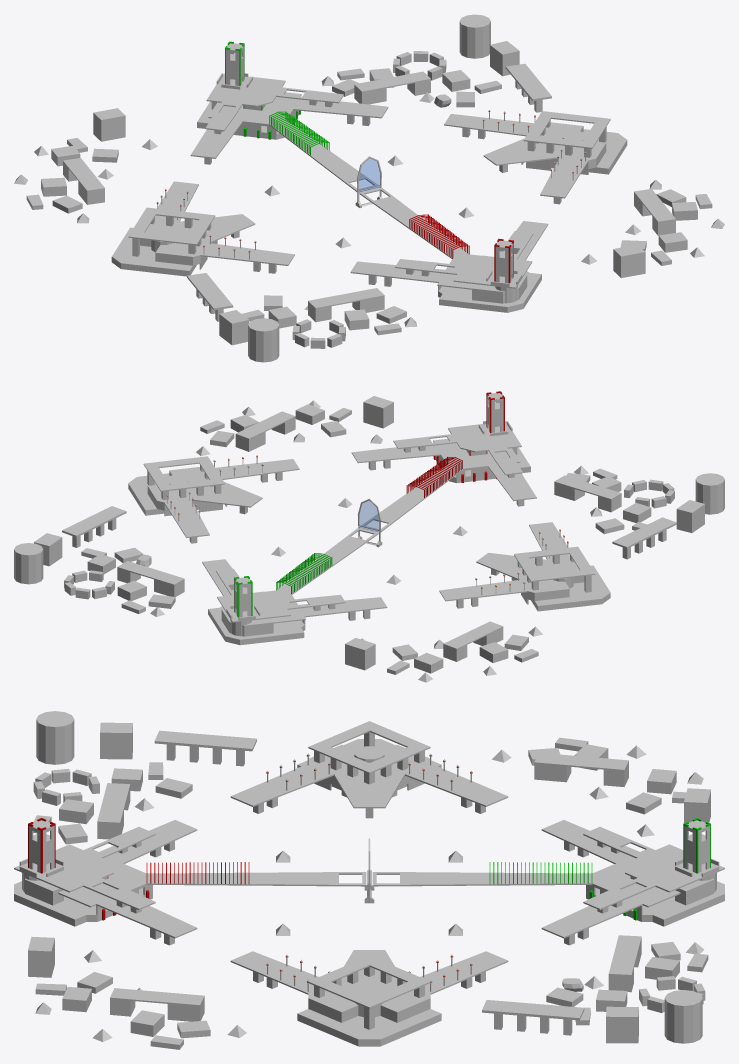
The model's file is version-2.obj.
3 views of the same model, one above another, from view 1: azimuth 30°, elevation 25°; view 2: azimuth 150°, elevation 25°; view 3: azimuth 270°, elevation 25° (orthographic). The views are drawn at different scales.
Parts seen in each view (by area): view 1: catwalk_lower.001_Cube.008, side_fortress_upper_Cube.020, side_fortress_higher_Cube.023, catwalk_guard_Cube.017, catwalk_lower_Cube.036, side_fortress_middlewalk_Cube.033, catwalk_central.001_Cube.044, floor_high_Cube.007, catwalk_central_Cube.010, catwalk_lower.002_Cube.043, side_fortress_base_(ground).001_Cube.030, base_(ground).001_Cube.038 (+22 smaller); view 2: catwalk_lower.001_Cube.008, side_fortress_upper_Cube.020, side_fortress_higher_Cube.023, catwalk_guard_Cube.017, catwalk_lower.002_Cube.043, side_fortress_middlewalk_Cube.033, catwalk_central_Cube.010, catwalk_central.001_Cube.044, floor_high.001_Cube.041, catwalk_lower_Cube.036, side_fortress_base_(ground).001_Cube.030, base_(ground)_Cube.001 (+23 smaller); view 3: catwalk_lower.001_Cube.008, side_fortress_higher_Cube.023, side_fortress_upper_Cube.020, catwalk_lower_Cube.036, catwalk_lower.002_Cube.043, side_fortress_base_(ground)_Cube.030, catwalk_central_Cube.010, catwalk_central.001_Cube.044, floor_high_Cube.007, floor_high.001_Cube.041, debris_topwalk.001_(ground).003_Cube.009, debris_topwalk.001_(ground).005_Cube.009 (+34 smaller).
Boxes of the visible parts, x1,y1,x2,y2 form: catwalk_lower.001_Cube.008: (155, 114, 588, 265); side_fortress_upper_Cube.020: (140, 122, 606, 265); side_fortress_higher_Cube.023: (128, 111, 610, 245); catwalk_guard_Cube.017: (269, 111, 469, 258); catwalk_lower_Cube.036: (190, 99, 388, 158); side_fortress_middlewalk_Cube.033: (180, 138, 559, 242); catwalk_central.001_Cube.044: (359, 187, 468, 258); floor_high_Cube.007: (206, 73, 285, 106); catwalk_central_Cube.010: (269, 120, 377, 191); catwalk_lower.002_Cube.043: (350, 221, 548, 282); side_fortress_base_(ground).001_Cube.030: (111, 227, 196, 276); base_(ground).001_Cube.038: (438, 271, 541, 312); catwalk_lower.001_Cube.008: (164, 459, 569, 601); side_fortress_upper_Cube.020: (147, 467, 584, 600); side_fortress_higher_Cube.023: (143, 456, 595, 581); catwalk_guard_Cube.017: (276, 456, 462, 594); catwalk_lower.002_Cube.043: (351, 445, 536, 501); side_fortress_middlewalk_Cube.033: (192, 482, 546, 579); catwalk_central_Cube.010: (277, 528, 378, 594); catwalk_central.001_Cube.044: (361, 465, 462, 531); floor_high.001_Cube.041: (448, 421, 521, 452); catwalk_lower_Cube.036: (202, 559, 387, 617); side_fortress_base_(ground).001_Cube.030: (531, 565, 610, 611); base_(ground)_Cube.001: (208, 606, 305, 645); catwalk_lower.001_Cube.008: (230, 764, 508, 994); side_fortress_higher_Cube.023: (308, 721, 430, 1008); side_fortress_upper_Cube.020: (308, 744, 430, 1022); catwalk_lower_Cube.036: (541, 820, 641, 938); catwalk_lower.002_Cube.043: (97, 820, 197, 938); side_fortress_base_(ground)_Cube.030: (297, 1009, 441, 1046); catwalk_central_Cube.010: (372, 872, 592, 886); catwalk_central.001_Cube.044: (146, 872, 366, 886); floor_high_Cube.007: (625, 844, 724, 892); floor_high.001_Cube.041: (14, 844, 113, 892); debris_topwalk.001_(ground).003_Cube.009: (534, 752, 628, 787); debris_topwalk.001_(ground).005_Cube.009: (110, 988, 204, 1021).
Size of the model in its own units: 926 by 102 by 905.
